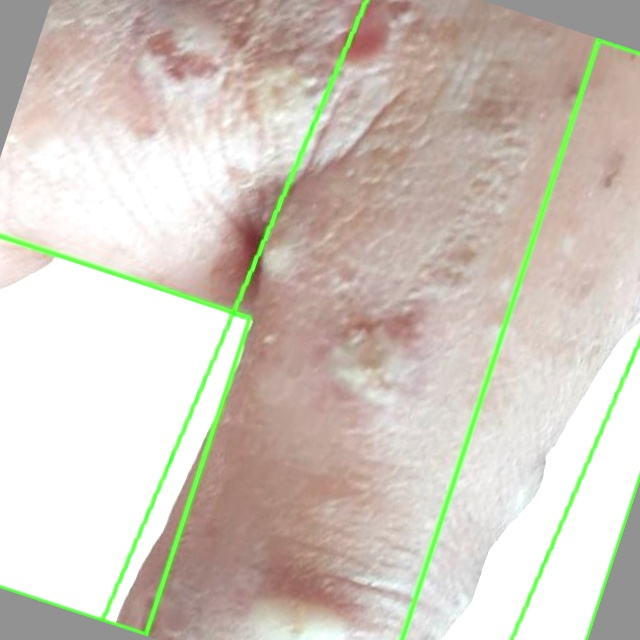Scabies: (103, 0, 639, 639), (402, 39, 639, 639), (0, 236, 249, 635)
